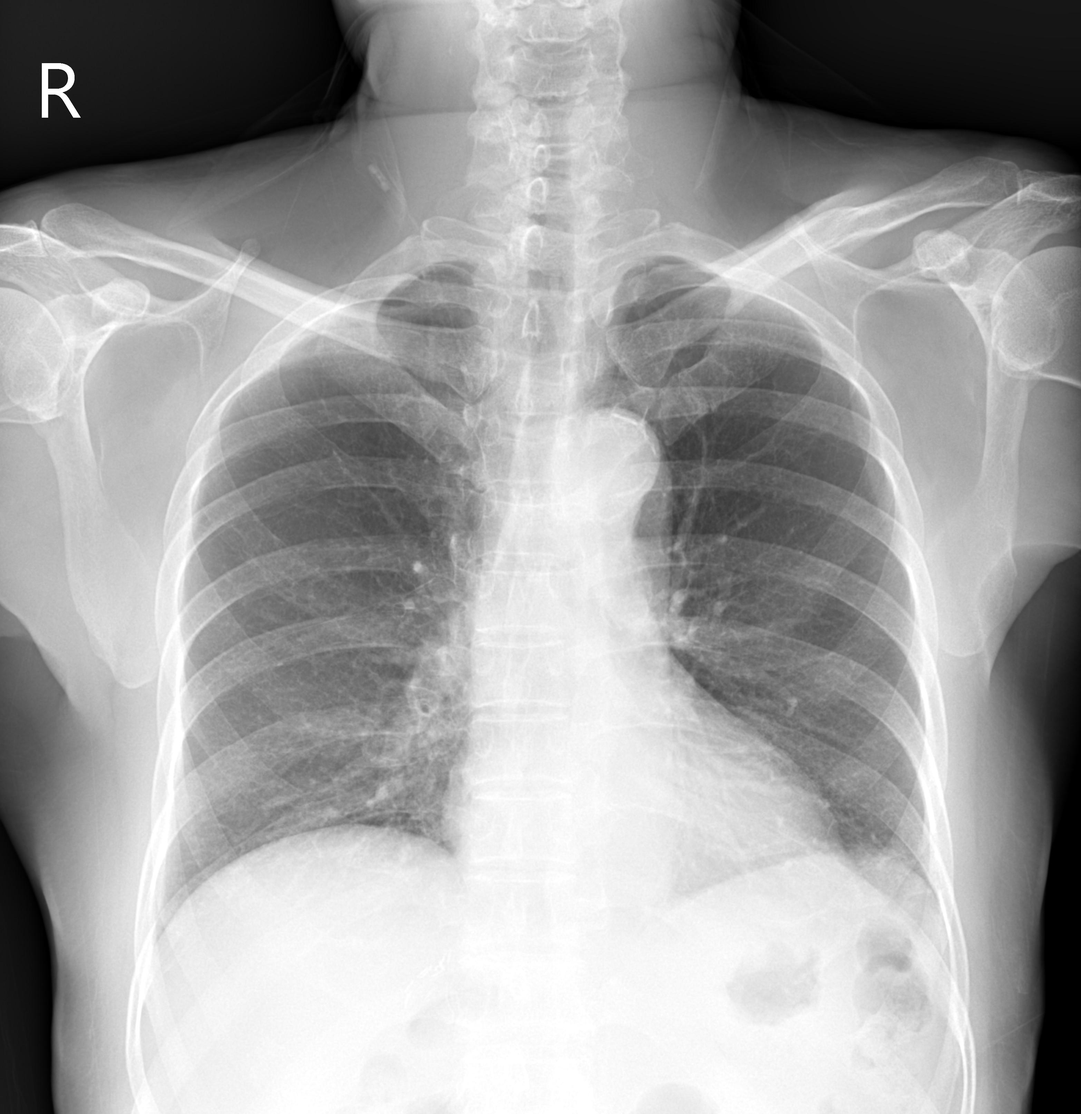Aortic enlargement: (560, 413, 670, 522)
